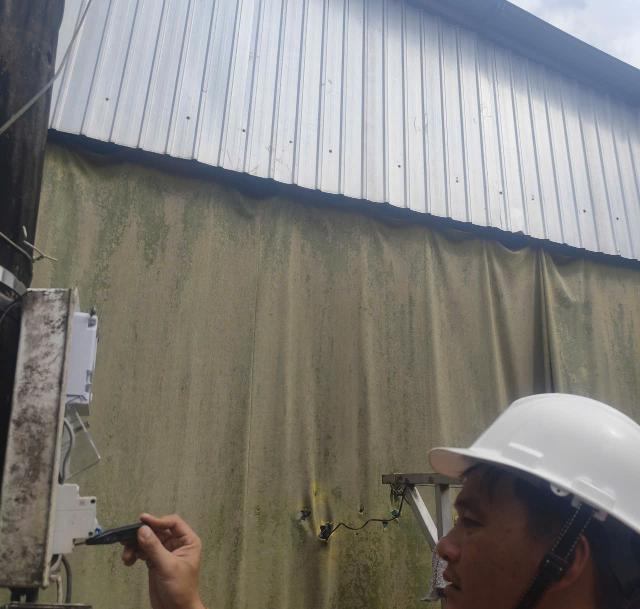helmet: (417, 344, 640, 559)
